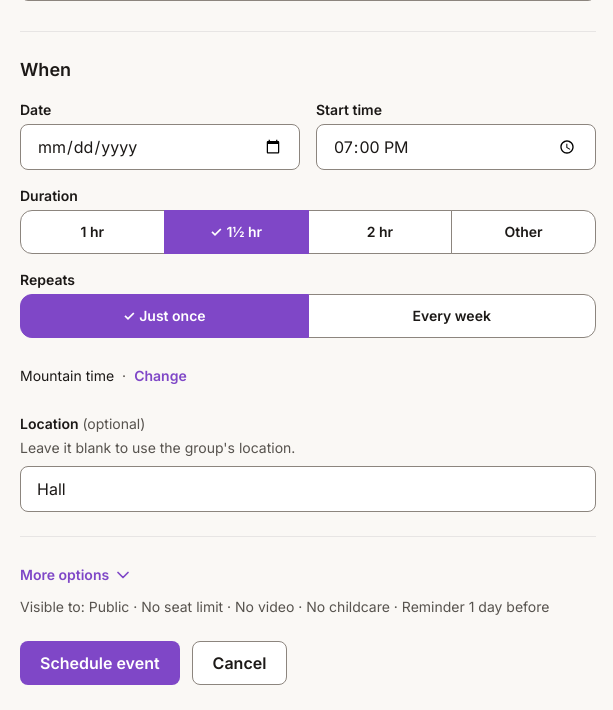
Test: NewEvent › hides the push reminder when the church turned notifications off
(page scrolled)
Expected: the text "Mountain time" is shown, [20,366,114,386]
Click the button "More options" at point(77, 575), box [20,553,133,597]
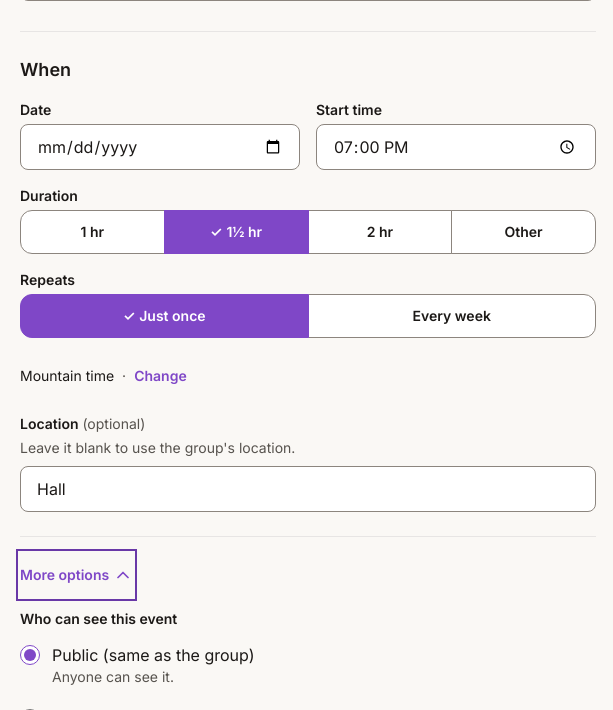
Click the button "More options" at point(77, 575), box [20,553,133,597]
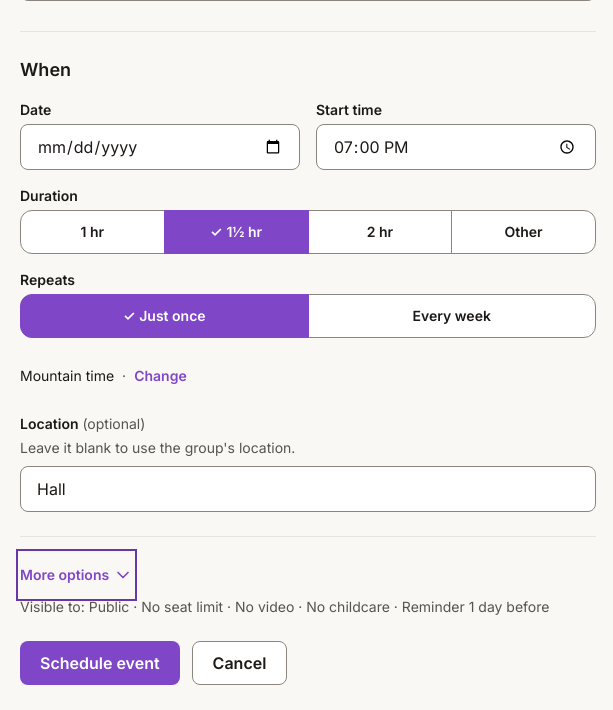
Result: the text "· Reminder 1 day before" is shown at [20,598,550,615]
